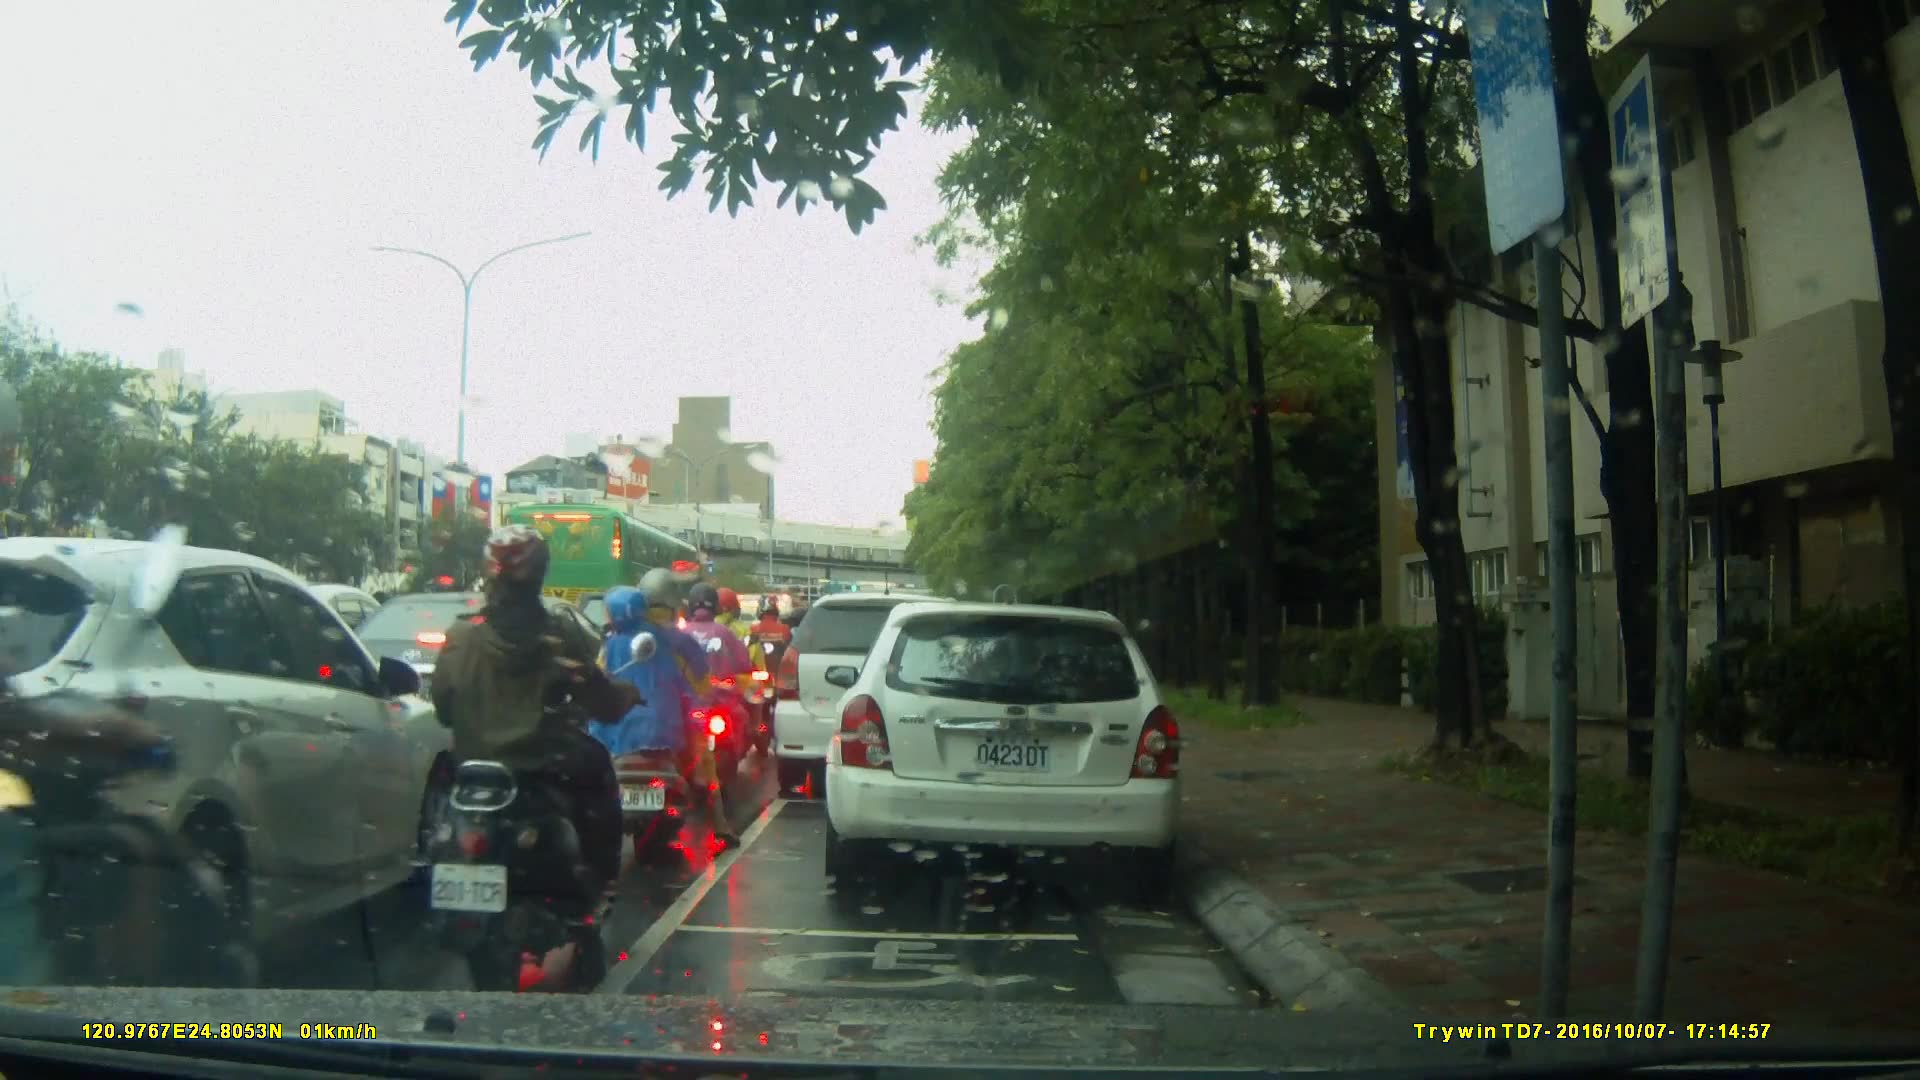rider: (1, 387, 277, 1079), (403, 516, 641, 994), (596, 570, 721, 846), (670, 586, 742, 787), (706, 589, 779, 777), (746, 592, 796, 737)
vehicle: (4, 535, 468, 988), (831, 592, 1196, 897), (313, 589, 629, 776), (770, 590, 999, 804), (501, 503, 709, 636)
